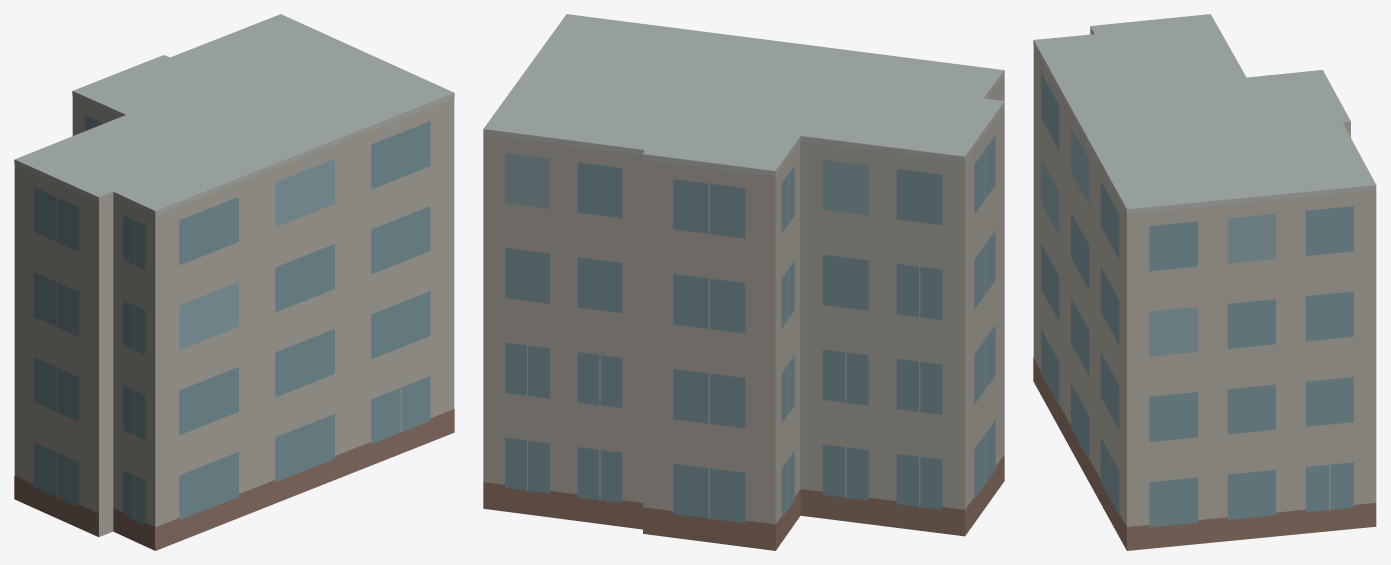
Rendered from survey-upis-32597401.glb.
The picture shows the model from 3 angles, left to right: view 1: azimuth 30°, elevation 25°; view 2: azimuth 150°, elevation 25°; view 3: azimuth 270°, elevation 25°; orthographic projection. The views are drawn at different scales.
Visible parts, largest first — view 1: survey-upis-32597401.tmp; view 2: survey-upis-32597401.tmp; view 3: survey-upis-32597401.tmp.
Boxes of the visible parts, bbox=[...] form: survey-upis-32597401.tmp: bbox=[14, 14, 454, 550]; survey-upis-32597401.tmp: bbox=[483, 14, 1004, 550]; survey-upis-32597401.tmp: bbox=[1033, 14, 1376, 550].
Size of the model in its own units: 21.11 by 17.2 by 15.66.
